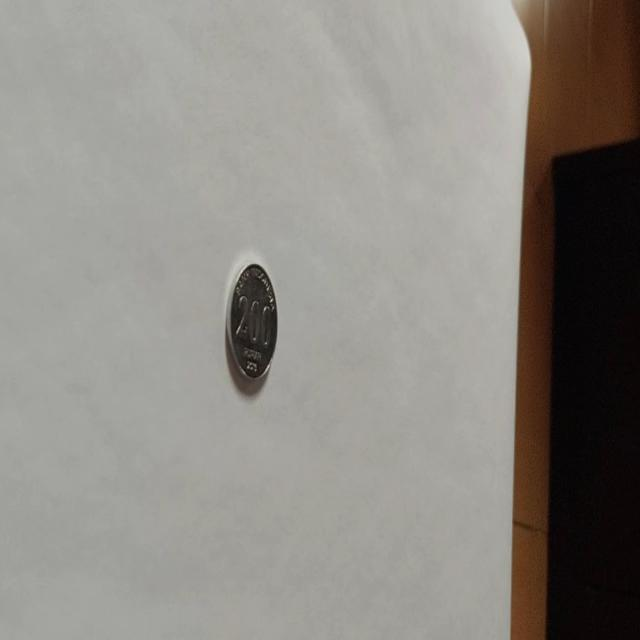dua ratus rupiah: (226, 261, 278, 384)
